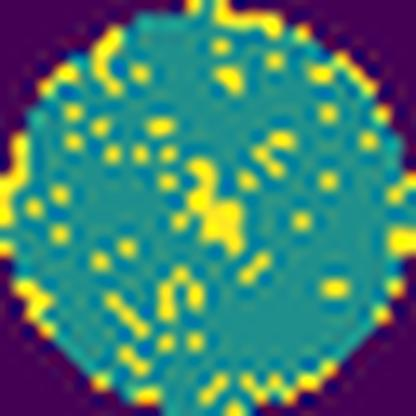Center: (169, 154, 246, 261)
